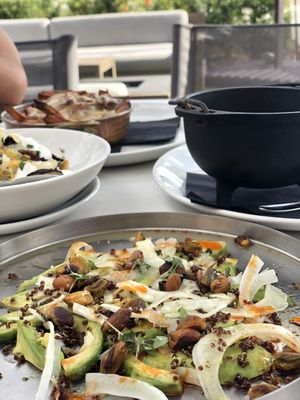sushi: (174, 85, 300, 185), (0, 127, 111, 223), (38, 88, 132, 145)
